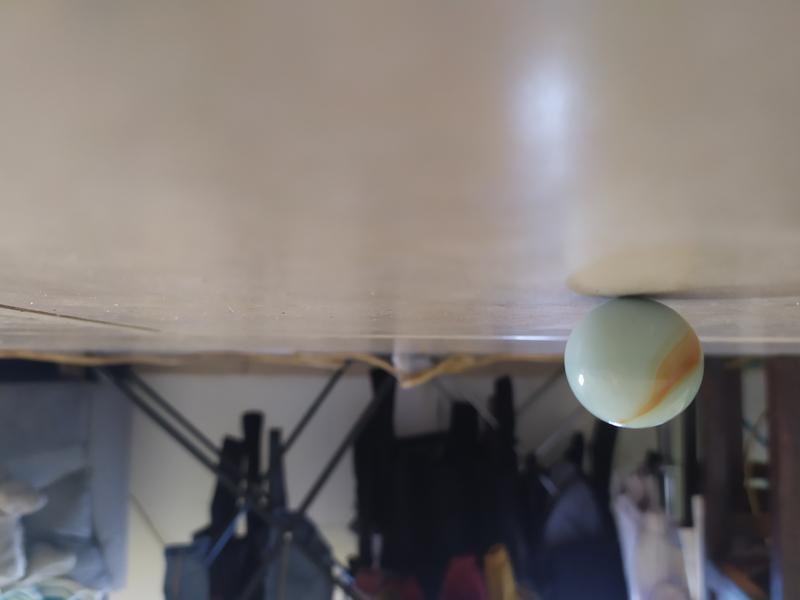Warning: (560, 293, 709, 432)
